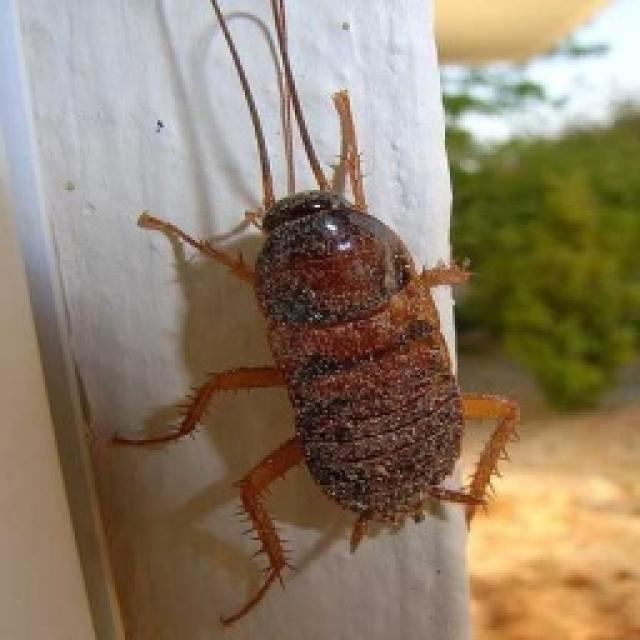cockroach: (251, 191, 473, 530)
